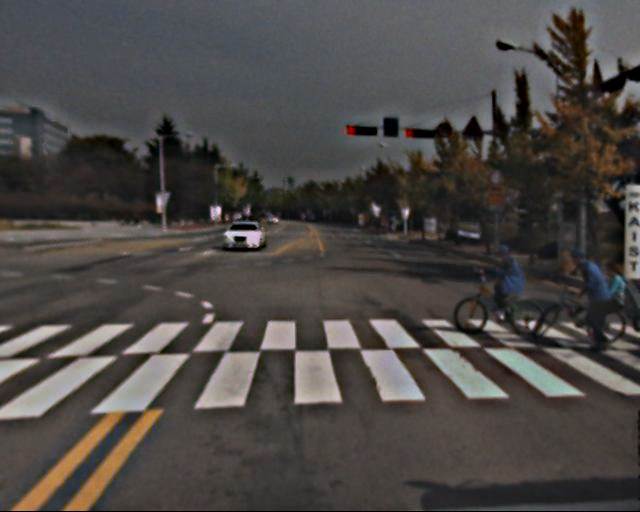person: (567, 249, 609, 351), (494, 241, 526, 318), (599, 262, 628, 332)
